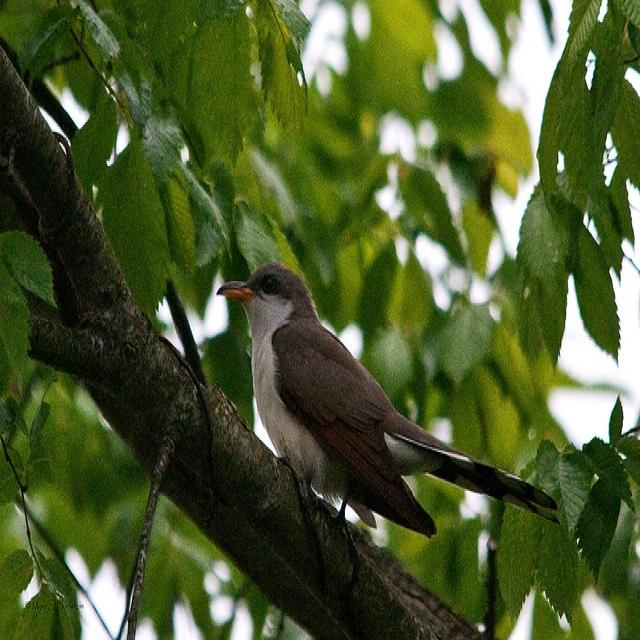bird: (216, 265, 562, 574)
